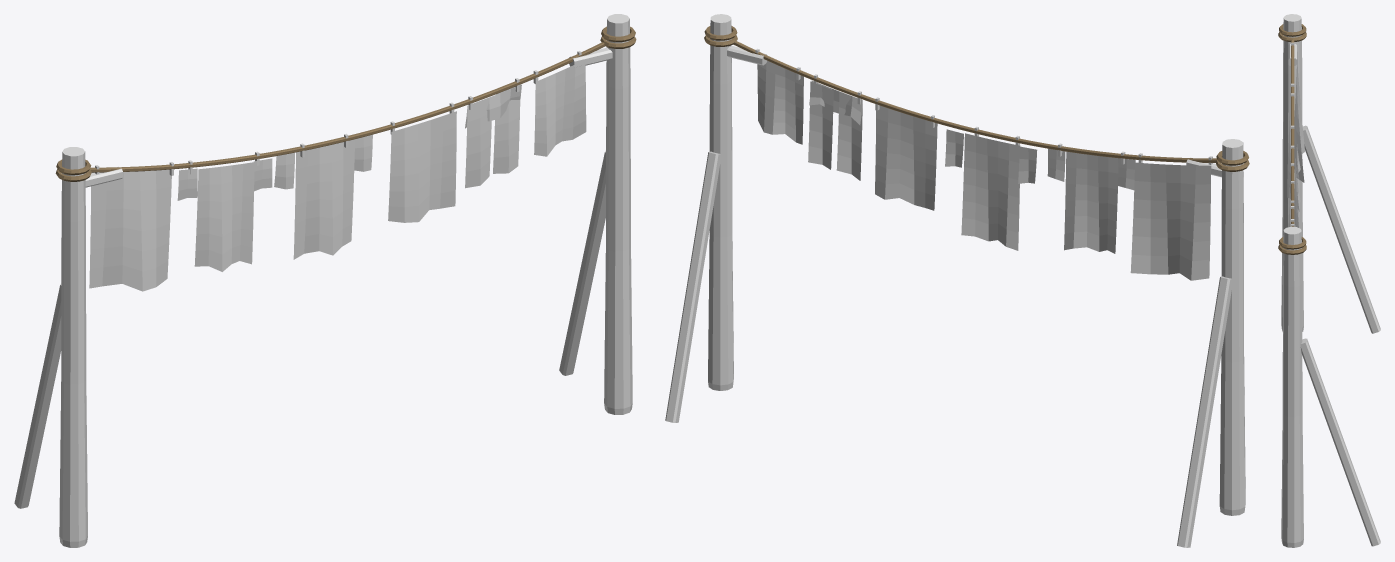
File: SilverbrookPropWashingLine.glb
The picture shows the model from 3 angles, left to right: view 1: azimuth 30°, elevation 25°; view 2: azimuth 150°, elevation 25°; view 3: azimuth 270°, elevation 25°; orthographic projection. The views are drawn at different scales.
Parts seen in each view (by area): view 1: SM_SBWashingLine_Cloth, SM_SBWashingLine_Posts, SM_SBWashingLine_Props, SM_SBWashingLine_Rope; view 2: SM_SBWashingLine_Cloth, SM_SBWashingLine_Posts, SM_SBWashingLine_Props, SM_SBWashingLine_Rope; view 3: SM_SBWashingLine_Posts, SM_SBWashingLine_Props, SM_SBWashingLine_Cloth, SM_SBWashingLine_Rope.
Boxes of the visible parts, x1,y1,x2,y2 form: SM_SBWashingLine_Cloth: (89,60,586,291); SM_SBWashingLine_Posts: (59,14,632,547); SM_SBWashingLine_Props: (14,47,612,508); SM_SBWashingLine_Rope: (55,26,636,181); SM_SBWashingLine_Cloth: (757,61,1211,280); SM_SBWashingLine_Posts: (708,14,1245,515); SM_SBWashingLine_Props: (665,45,1232,547); SM_SBWashingLine_Rope: (704,26,1249,171); SM_SBWashingLine_Posts: (1281,14,1303,547); SM_SBWashingLine_Props: (1288,42,1380,546); SM_SBWashingLine_Cloth: (1287,52,1304,228); SM_SBWashingLine_Rope: (1278,24,1306,254).
Size of the model in its own units: 3.7 by 2.41 by 0.7093.
